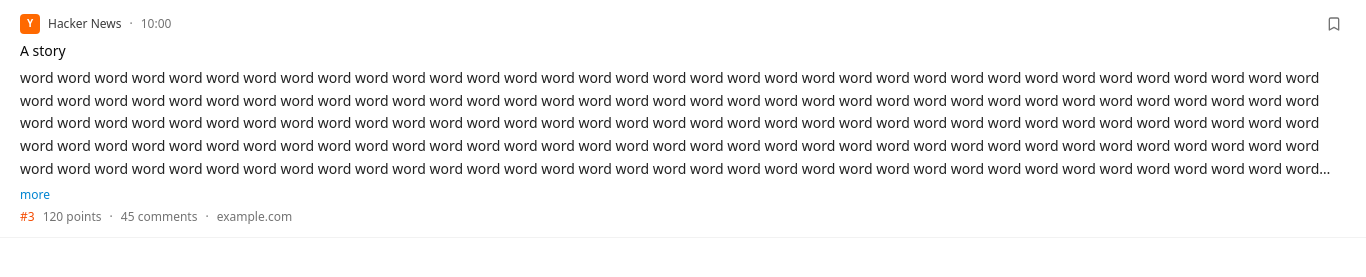
Test: HnCard › collapses long self-post text behind a more toggle
Click the button "more": point(35, 194) top-left (20, 186), bottom-right (50, 202)
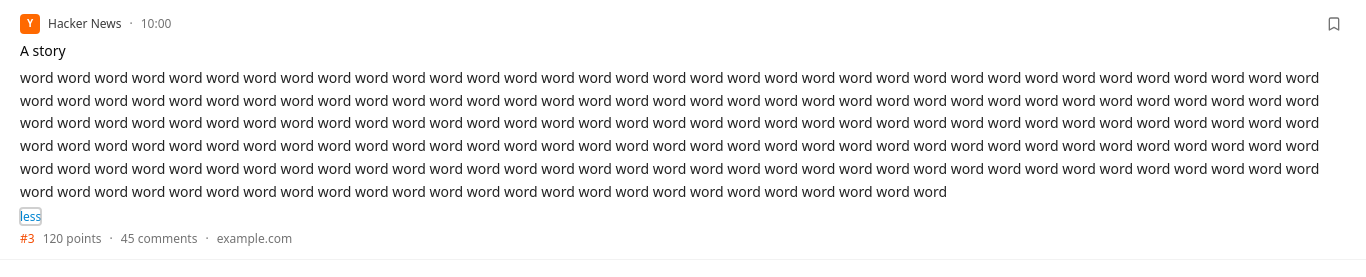
Result: the button "less" is shown at top-left (20, 209), bottom-right (41, 225)
